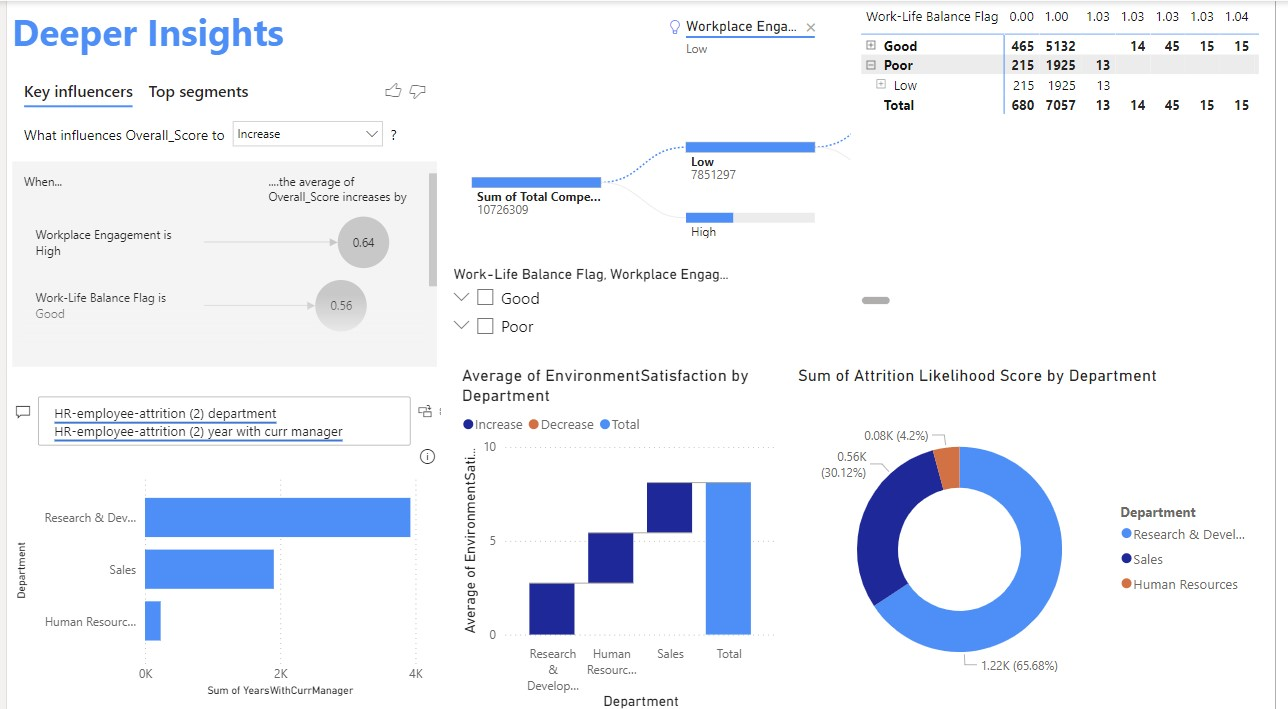

What the dashboard file says about the page in this screenshot:
{"tool":"powerbi","page":{"name":"Deeper insights","canvas":[1280,720],"ordinal":1},"visuals":[{"type":"keyDriversVisual","fields":{"ExplainBy":["Sum(HR-Employee-Attrition (2).Salary-Experience Ratio)","HR-Employee-Attrition (2).Workplace Engagement","Sum(HR-Employee-Attrition (2).Overtime Impact Score)","Sum(HR-Employee-Attrition (2).WorkLifeBalance)","Sum(HR-Employee-Attrition (2).YearsAtCompany)","HR-Employee-Attrition (2).Work-Life Balance Flag"],"Target":["HR-Employee-Attrition (2).Overall_Score"]},"box":[0,0,438.4,374.2],"z":0},{"type":"decompositionTreeVisual","fields":{"Analyze":["Sum(HR-Employee-Attrition (2).Total Compensation)"],"ExplainBy":["HR-Employee-Attrition (2).Workplace Engagement","HR-Employee-Attrition (2).Work-Life Balance Flag","HR-Employee-Attrition (2).Salary-Experience Ratio","HR-Employee-Attrition (2).Overall_Score"]},"box":[438.4,0,418,244.1],"z":1000},{"type":"qnaVisual","box":[0,374,438,346],"z":2000},{"type":"pivotTable","fields":{"Rows":["HR-Employee-Attrition (2).Work-Life Balance Flag","HR-Employee-Attrition (2).Workplace Engagement","HR-Employee-Attrition (2).Total Compensation"],"Columns":["HR-Employee-Attrition (2).Overtime Impact Score","HR-Employee-Attrition (2).Overall_Score"],"Values":["Sum(HR-Employee-Attrition (2).PercentSalaryHike)"]},"box":[857,0,411.9,311.9],"z":3000},{"type":"slicer","fields":{"Values":["HR-Employee-Attrition (2).Work-Life Balance Flag","HR-Employee-Attrition (2).Workplace Engagement","HR-Employee-Attrition (2).StockOptionLevel"]},"box":[437.6,262,313.4,98.4],"z":4000},{"type":"waterfallChart","fields":{"Category":["HR-Employee-Attrition (2).Department"],"Y":["Avg(HR-Employee-Attrition (2).EnvironmentSatisfaction)"]},"box":[454.3,368,327.1,351.3],"z":5001},{"type":"donutChart","fields":{"Category":["HR-Employee-Attrition (2).Department"],"Y":["Sum(HR-Employee-Attrition (2).Attrition Likelihood Score)"]},"box":[793.4,368,475.5,351.3],"z":5002}]}

Visuals, with their boxes in screenshot pixels (x1, y1, x2, y2), scaled from the page's 1280x720 canvas onto the 1288x709 screenshot:
keyDriversVisual - Sum(HR-Employee-Attrition (2).Salary-Experience Ratio) x HR-Employee-Attrition (2).Workplace Engagement: (left=0, top=0, right=441, bottom=368)
decompositionTreeVisual - Sum(HR-Employee-Attrition (2).Total Compensation) x HR-Employee-Attrition (2).Workplace Engagement: (left=441, top=0, right=862, bottom=240)
qnaVisual: (left=0, top=368, right=441, bottom=708)
pivotTable - HR-Employee-Attrition (2).Work-Life Balance Flag x HR-Employee-Attrition (2).Workplace Engagement: (left=862, top=0, right=1277, bottom=307)
slicer - HR-Employee-Attrition (2).Work-Life Balance Flag x HR-Employee-Attrition (2).Workplace Engagement: (left=440, top=258, right=756, bottom=355)
waterfallChart - HR-Employee-Attrition (2).Department x Avg(HR-Employee-Attrition (2).EnvironmentSatisfaction): (left=457, top=362, right=786, bottom=708)
donutChart - HR-Employee-Attrition (2).Department x Sum(HR-Employee-Attrition (2).Attrition Likelihood Score): (left=798, top=362, right=1277, bottom=708)
